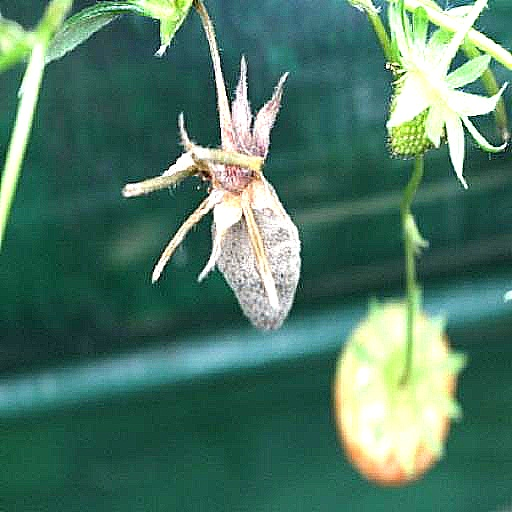Gray Mold: (181, 56, 303, 333)
